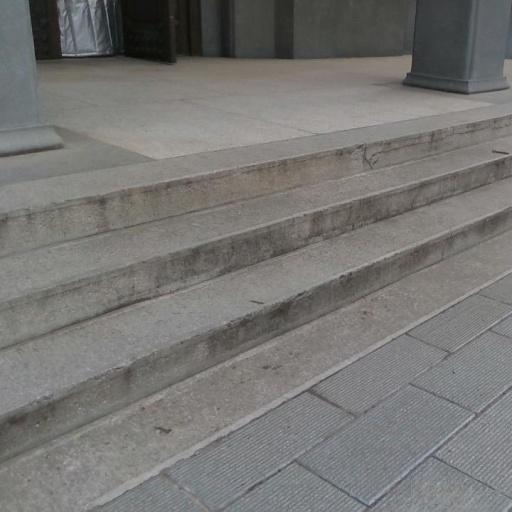stairs: (0, 116, 511, 460)
